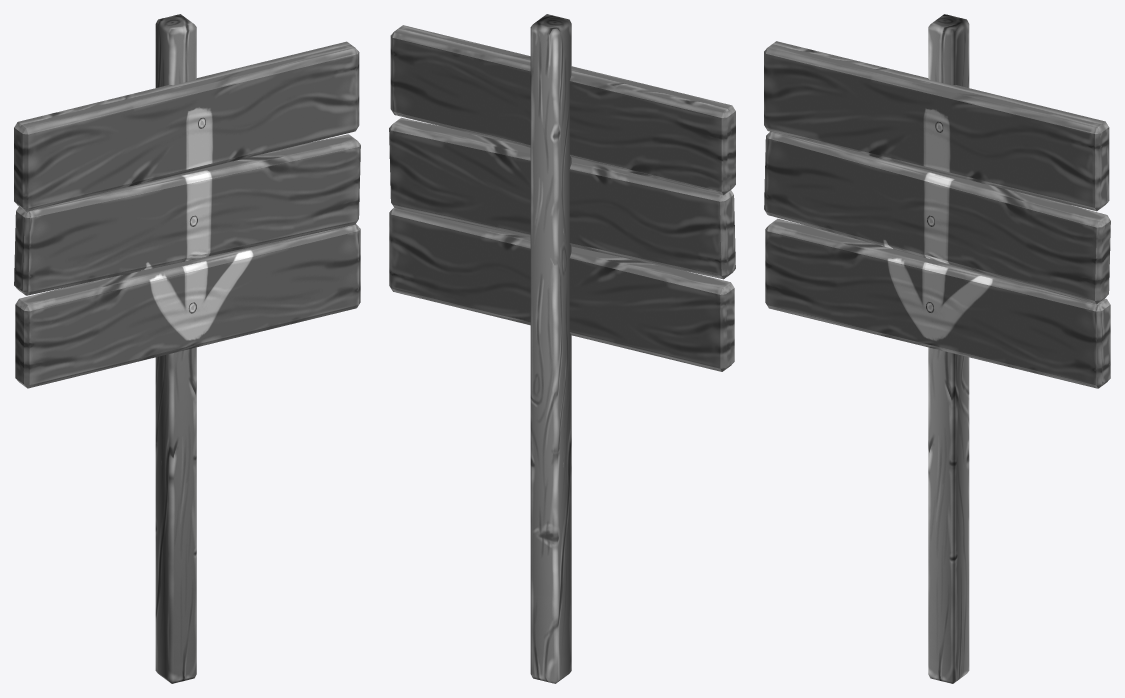
File: SM_Panneau_Bas.FBX
3 views of the same model, side by side, from view 1: azimuth 30°, elevation 25°; view 2: azimuth 150°, elevation 25°; view 3: azimuth 330°, elevation 25° (orthographic).
Visible parts, largest first — view 1: WoodPlank_LP012; view 2: WoodPlank_LP012; view 3: WoodPlank_LP012.
Boxes of the visible parts, box(x1,y1,x2,y2) form: WoodPlank_LP012: box(14, 14, 360, 683); WoodPlank_LP012: box(389, 14, 735, 683); WoodPlank_LP012: box(764, 14, 1110, 683).
Size of the model in its own units: 61.22 by 113 by 8.1.
